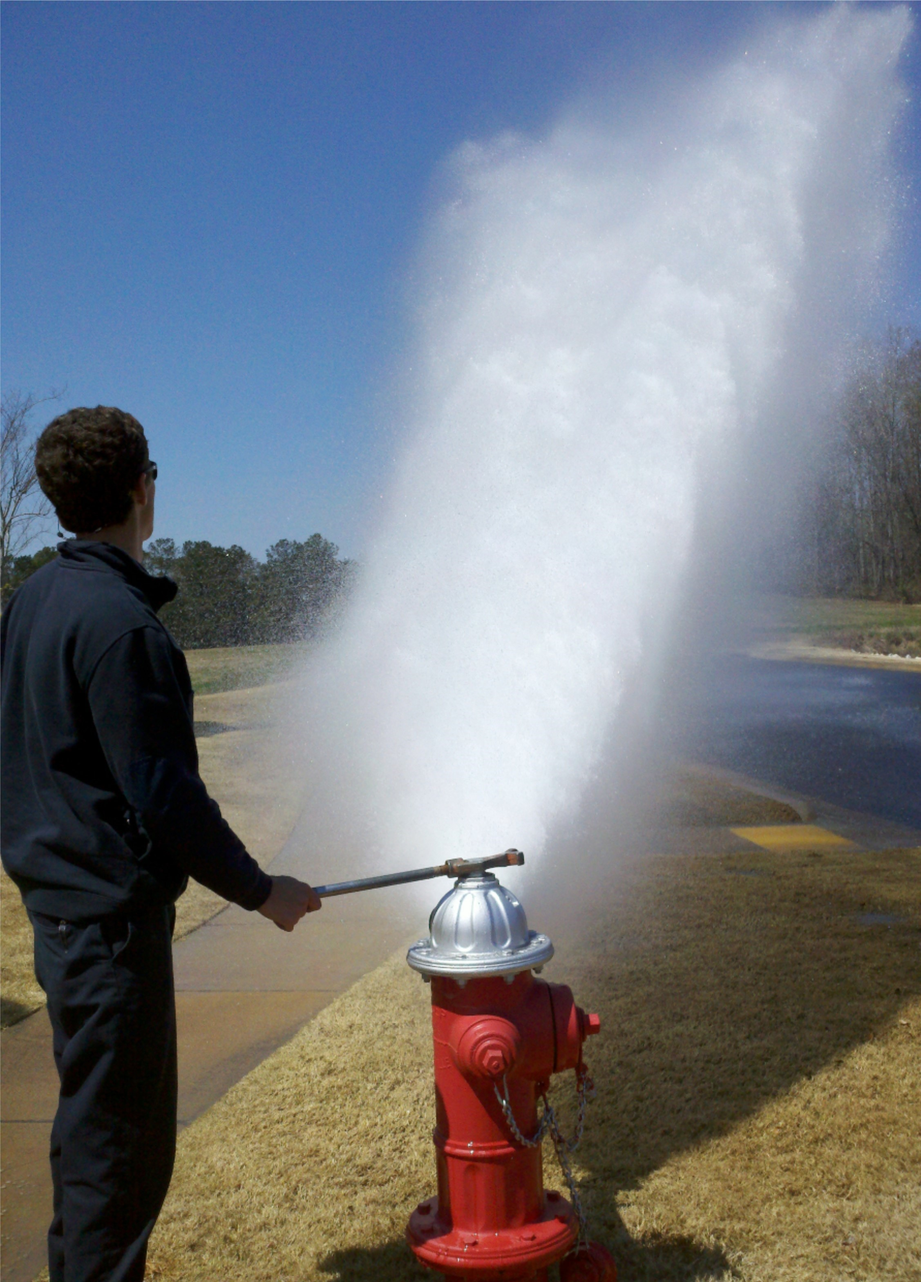FireHydrant: (353, 848, 635, 1271)
Person: (10, 396, 349, 1261)
